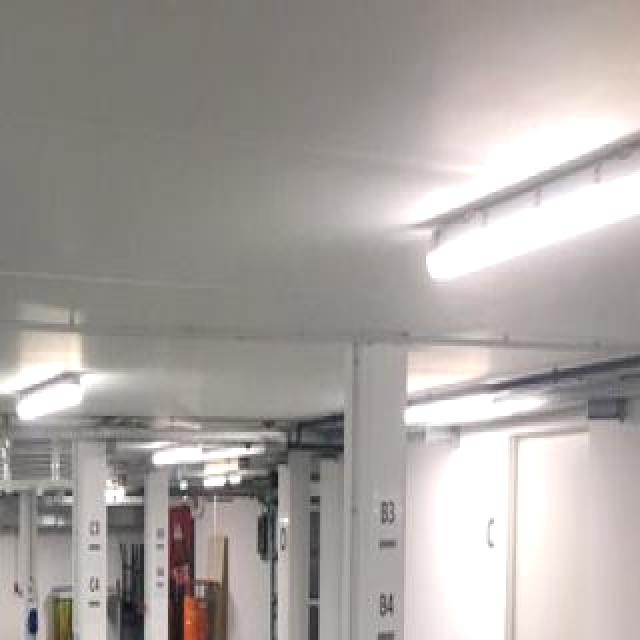fluorescent tube: (378, 142, 640, 300), (0, 362, 114, 424)
